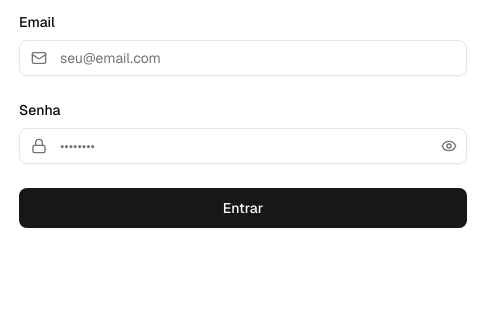
Test case: LoginForm › should handle login errors correctly
Step 1. Type "wrong@example.com" into the field with placeholder "seu@email.com" → (243, 58), box [19,40,467,76]
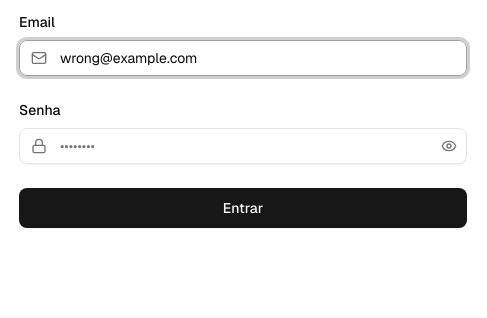
Step 2. Type "wrongpassword" into the password field with placeholder "••••••••" → (243, 146), box [19,128,467,164]
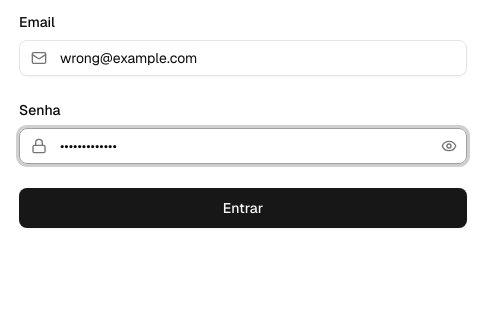
Step 3. Click the button "Entrar" → (243, 208), box [19,188,467,228]
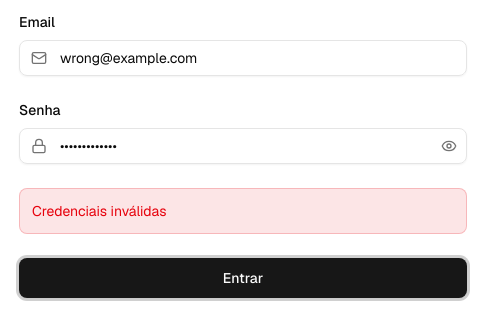
expect the text "Credenciais inválidas" is shown: met, box [19,188,467,234]
